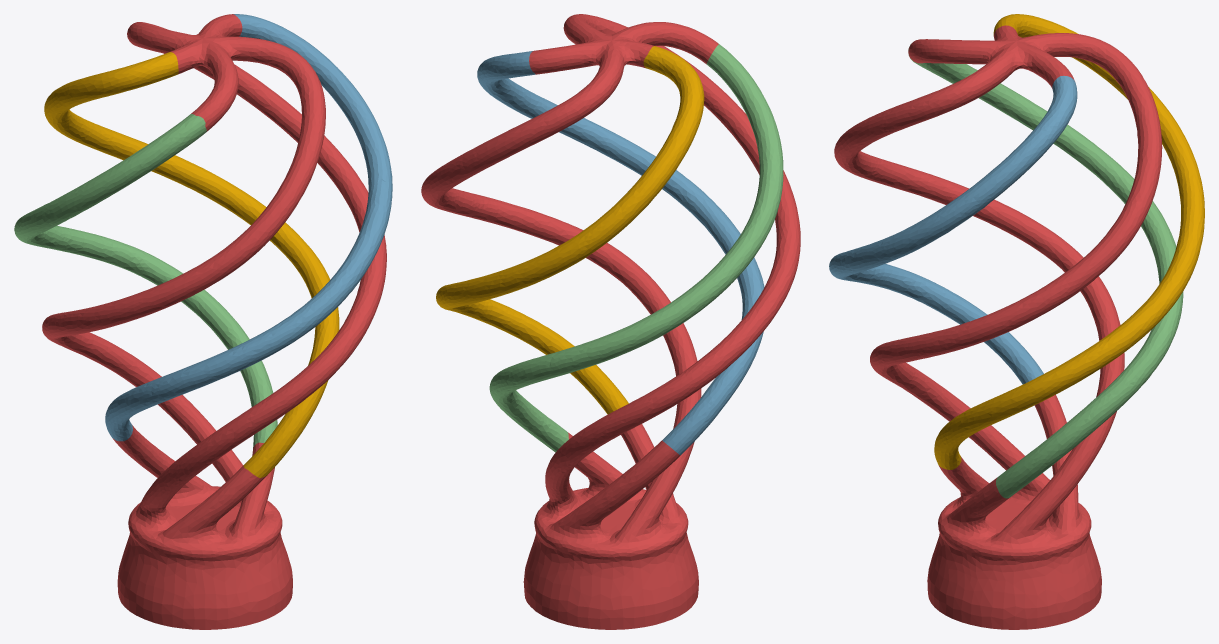
File: mode_4_4pcs.glb
3 renders of one model, left to right at view 1: azimuth 30°, elevation 25°; view 2: azimuth 150°, elevation 25°; view 3: azimuth 270°, elevation 25°, orthographic.
Visible parts, largest first — view 1: piece_1.obj, piece_2.obj, piece_0.obj, piece_3.obj; view 2: piece_1.obj, piece_3.obj, piece_0.obj, piece_2.obj; view 3: piece_1.obj, piece_0.obj, piece_2.obj, piece_3.obj.
Part boxes in pixels (box(x1,y1,x2,y2)): piece_1.obj: box(42, 14, 386, 629); piece_2.obj: box(105, 14, 392, 441); piece_0.obj: box(44, 52, 339, 478); piece_3.obj: box(14, 114, 277, 448); piece_1.obj: box(421, 14, 800, 629); piece_3.obj: box(489, 43, 783, 452); piece_0.obj: box(436, 46, 704, 414); piece_2.obj: box(477, 51, 764, 455); piece_1.obj: box(834, 25, 1162, 629); piece_0.obj: box(934, 14, 1204, 469); piece_2.obj: box(829, 75, 1077, 384); piece_3.obj: box(908, 44, 1183, 498).
Size of the model in its own units: 0.6206 by 1 by 0.6175.
